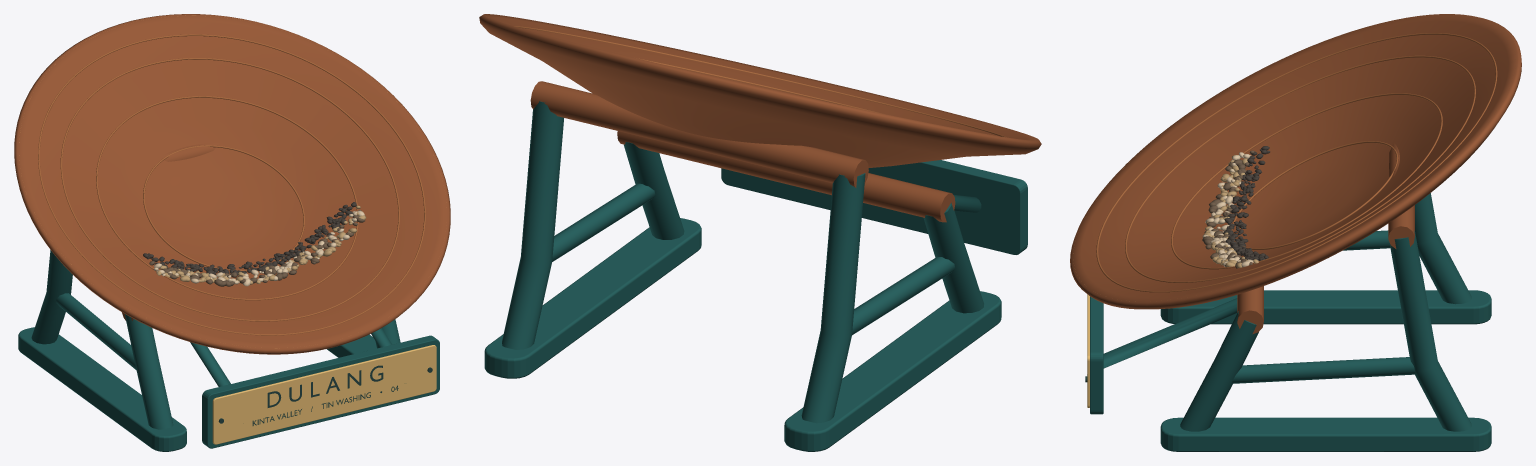
3 views of the same model, side by side, from view 1: azimuth 30°, elevation 25°; view 2: azimuth 150°, elevation 25°; view 3: azimuth 270°, elevation 25° (orthographic). The views are drawn at different scales.
Visible parts, largest first — view 1: Carved pan, Interpretive stand, Tin bearing gravel; view 2: Interpretive stand, Carved pan; view 3: Carved pan, Interpretive stand, Tin bearing gravel.
Boxes of the visible parts, <box> form: Carved pan: <box>14,14,450,354</box>; Interpretive stand: <box>18,143,439,451</box>; Tin bearing gravel: <box>143,202,366,286</box>; Interpretive stand: <box>484,81,1027,451</box>; Carved pan: <box>479,14,1041,167</box>; Carved pan: <box>1070,14,1521,309</box>; Interpretive stand: <box>1085,143,1491,451</box>; Tin bearing gravel: <box>1202,146,1270,268</box>.
Bounding box in the file's own units: 0.866 × 0.6097 × 0.7785.
